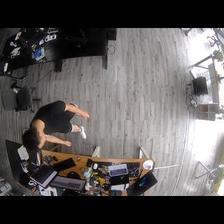normal: (22, 99, 90, 153)
